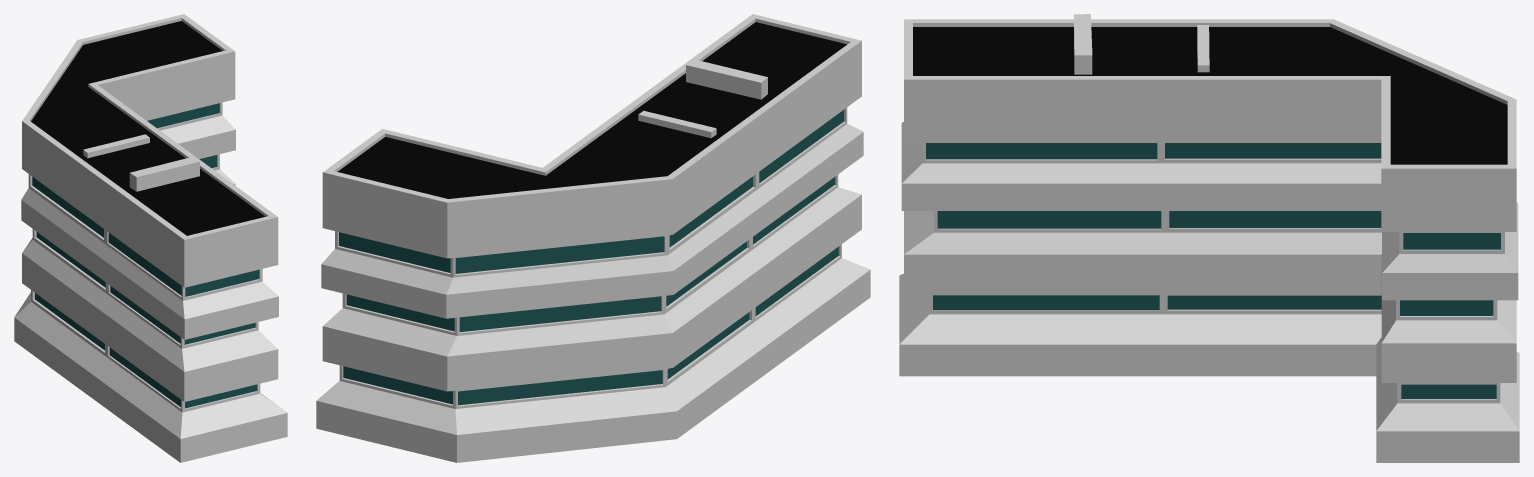
Rendered from 67CORONASWEATSHOP.fbx.
3 renders of one model, left to right at view 1: azimuth 30°, elevation 25°; view 2: azimuth 150°, elevation 25°; view 3: azimuth 270°, elevation 25°, orthographic. The views are drawn at different scales.
Parts seen in each view (by area): view 1: Corner bld; view 2: Corner bld; view 3: Corner bld.
Boxes of the visible parts, x1,y1,x2,y2 form: Corner bld: (14, 14, 287, 462); Corner bld: (316, 14, 870, 462); Corner bld: (899, 14, 1519, 462).
Size of the model in its own units: 400 by 367 by 673.
